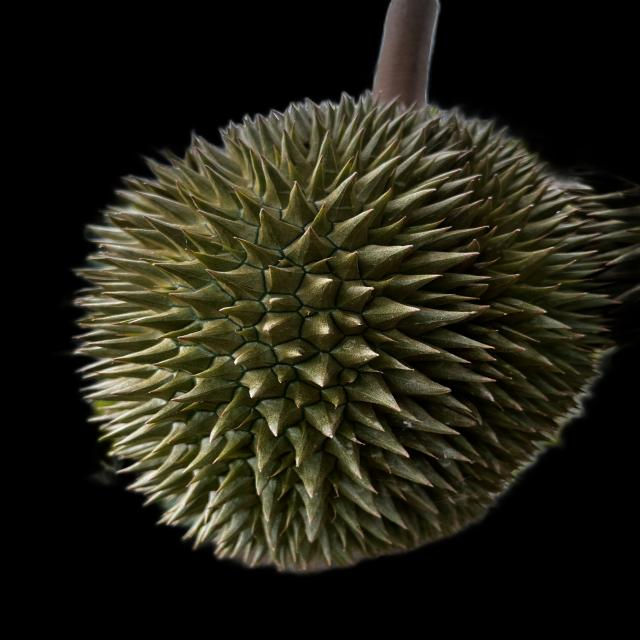immature: (60, 100, 620, 570)
